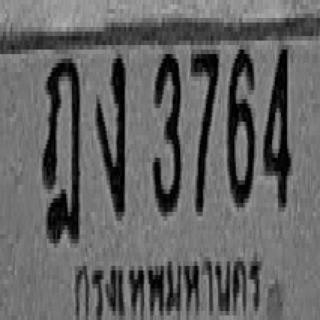A07: (96, 52, 126, 214)
A14: (42, 54, 80, 243)
N03: (152, 50, 181, 212)
N04: (264, 45, 291, 207)
N06: (227, 45, 254, 203)
N07: (191, 45, 218, 212)
P04: (70, 255, 264, 320)
